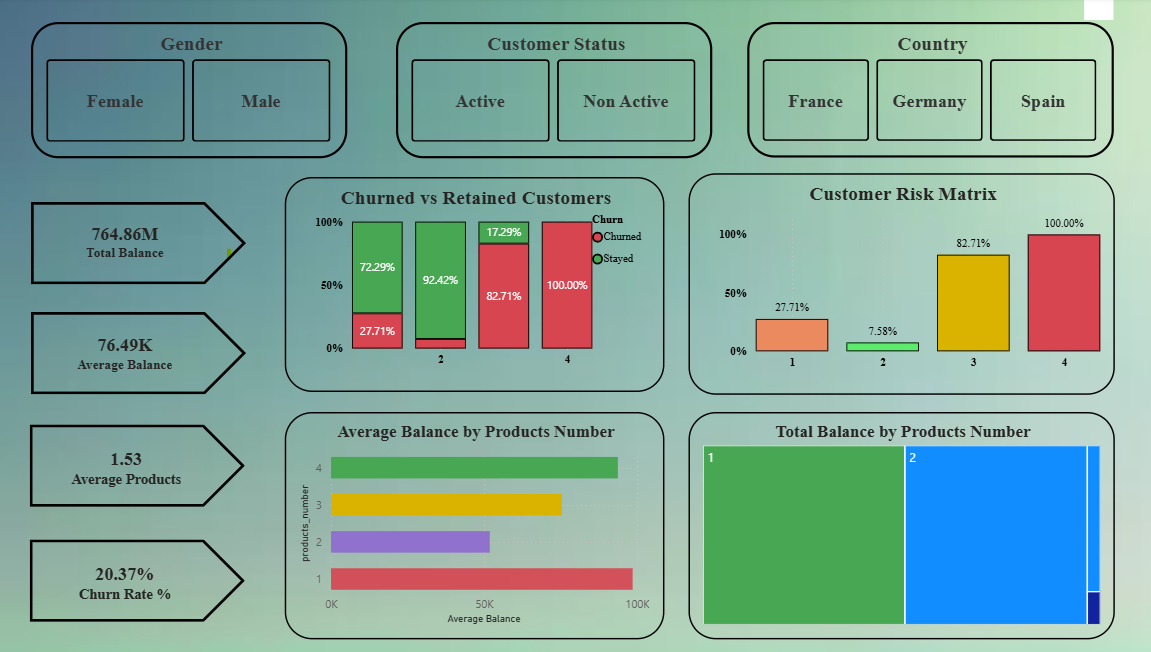

This screenshot's page, from the dashboard's own definition file:
{"tool":"powerbi","page":{"name":"Product Ownership Analysis","canvas":[1280,720],"ordinal":2},"visuals":[{"type":"clusteredColumnChart","title":"Customer Risk Matrix","fields":{"Category":["Bank Customer Churn Prediction.products_number"],"Y":["Bank Customer Churn Prediction.Churn Rate %"]},"box":[759.6,193,468.1,243.3],"z":0},{"type":"advancedSlicerVisual","title":"Country","fields":{"Values":["Bank Customer Churn Prediction.country"]},"box":[825.3,27.7,402.4,148.8],"z":1000},{"type":"treemap","title":"Total Balance by Products Number","fields":{"Group":["Bank Customer Churn Prediction.products_number"],"Values":["CountNonNull(Bank Customer Churn Prediction.balance)"]},"box":[759.6,455.7,468.1,249.4],"z":2000},{"type":"advancedSlicerVisual","title":"Gender","fields":{"Values":["Bank Customer Churn Prediction.gender"]},"box":[37.9,28,347.5,149.8],"z":3000},{"type":"hundredPercentStackedColumnChart","title":"Churned vs Retained Customers","fields":{"Category":["Bank Customer Churn Prediction.products_number"],"Series":["Bank Customer Churn Prediction.churn"],"Y":["CountNonNull(Bank Customer Churn Prediction.customer_id)"]},"box":[317.2,197.1,416.7,236.1],"z":4000},{"type":"clusteredBarChart","title":"Average Balance by Products Number","fields":{"Category":["Bank Customer Churn Prediction.products_number"],"Y":["Bank Customer Churn Prediction.Average Balance"]},"box":[317.2,455.7,416.7,249.4],"z":5000},{"type":"advancedSlicerVisual","title":"Customer Status","fields":{"Values":["Bank Customer Churn Prediction.active_member"]},"box":[439.3,28,347.5,149.8],"z":6000},{"type":"shape","box":[38,224.8,236.1,90.3],"z":7000},{"type":"cardVisual","fields":{"Data":["Sum(Bank Customer Churn Prediction.balance)"]},"box":[58.5,231,165.3,78],"z":8000},{"type":"shape","box":[38,345.9,236.1,90.3],"z":9000},{"type":"shape","box":[37.7,595.3,236.2,90.3],"z":10000},{"type":"shape","box":[37.7,469.3,236.2,90.3],"z":11000},{"type":"cardVisual","fields":{"Data":["Bank Customer Churn Prediction.Average Balance"]},"box":[58.5,352.1,165.3,78],"z":12000},{"type":"cardVisual","fields":{"Data":["Bank Customer Churn Prediction.Average Products"]},"box":[48.2,479.4,190.9,78],"z":13000},{"type":"cardVisual","fields":{"Data":["Bank Customer Churn Prediction.Churn Rate %"]},"box":[58.5,604.6,165.3,78],"z":14000}]}

Visuals, with their boxes in screenshot pixels (x1, y1, x2, y2), scaled from the page's 1280x720 canvas onto the 1151x652 screenshot:
"Customer Risk Matrix" clusteredColumnChart: bbox=(683, 175, 1104, 395)
"Country" advancedSlicerVisual: bbox=(742, 25, 1104, 160)
"Total Balance by Products Number" treemap: bbox=(683, 413, 1104, 639)
"Gender" advancedSlicerVisual: bbox=(34, 25, 347, 161)
"Churned vs Retained Customers" hundredPercentStackedColumnChart: bbox=(285, 178, 660, 392)
"Average Balance by Products Number" clusteredBarChart: bbox=(285, 413, 660, 639)
"Customer Status" advancedSlicerVisual: bbox=(395, 25, 708, 161)
shape: bbox=(34, 204, 246, 285)
cardVisual - Sum(Bank Customer Churn Prediction.balance): bbox=(53, 209, 201, 280)
shape: bbox=(34, 313, 246, 395)
shape: bbox=(34, 539, 246, 621)
shape: bbox=(34, 425, 246, 507)
cardVisual - Bank Customer Churn Prediction.Average Balance: bbox=(53, 319, 201, 389)
cardVisual - Bank Customer Churn Prediction.Average Products: bbox=(43, 434, 215, 505)
cardVisual - Bank Customer Churn Prediction.Churn Rate %: bbox=(53, 547, 201, 618)
